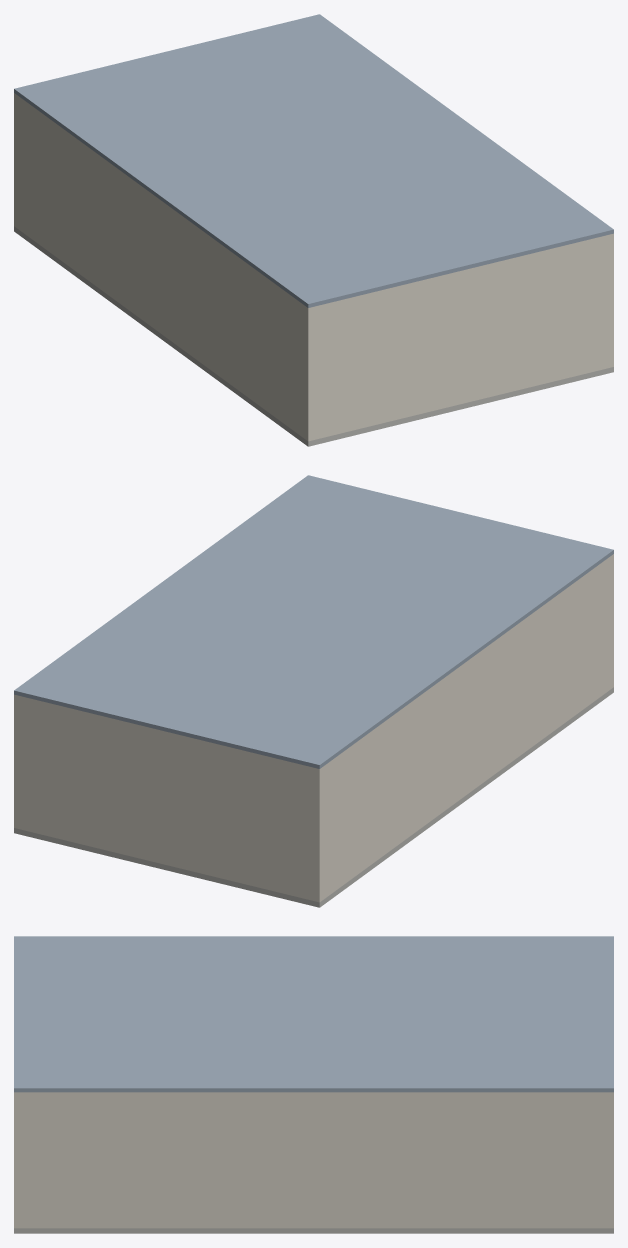
Rendered from shed.glb.
3 renders of one model, top to bottom at view 1: azimuth 30°, elevation 25°; view 2: azimuth 150°, elevation 25°; view 3: azimuth 270°, elevation 25°, orthographic.
Visible parts, largest first — view 1: 395m2lJzD1rPZkJPeEQciH, 2okLePhI14pBteZlYUepS3, 3SjGXv8sb2K9dxnB7Icxi7, 33gJnOJXjAq8YxhtEaa$Ip; view 2: 395m2lJzD1rPZkJPeEQciH, 1bZ27eNyv0H8KBtl3yb0rv, 3SjGXv8sb2K9dxnB7Icxi7, 33gJnOJXjAq8YxhtEaa$Ip, 1PQPoE94DEAP5FcIYcAazY; view 3: 395m2lJzD1rPZkJPeEQciH, 1PQPoE94DEAP5FcIYcAazY, 33gJnOJXjAq8YxhtEaa$Ip, 2okLePhI14pBteZlYUepS3.
Boxes of the visible parts, box(x1,y1,x2,y2) form: 395m2lJzD1rPZkJPeEQciH: box(14, 14, 613, 307); 2okLePhI14pBteZlYUepS3: box(306, 234, 613, 440); 3SjGXv8sb2K9dxnB7Icxi7: box(14, 93, 313, 441); 33gJnOJXjAq8YxhtEaa$Ip: box(14, 226, 613, 446); 395m2lJzD1rPZkJPeEQciH: box(14, 475, 613, 768); 1bZ27eNyv0H8KBtl3yb0rv: box(14, 695, 322, 901); 3SjGXv8sb2K9dxnB7Icxi7: box(314, 554, 613, 902); 33gJnOJXjAq8YxhtEaa$Ip: box(14, 687, 613, 907); 1PQPoE94DEAP5FcIYcAazY: box(14, 694, 18, 828); 395m2lJzD1rPZkJPeEQciH: box(14, 936, 613, 1092); 1PQPoE94DEAP5FcIYcAazY: box(14, 1092, 613, 1228); 33gJnOJXjAq8YxhtEaa$Ip: box(14, 1228, 613, 1233); 2okLePhI14pBteZlYUepS3: box(14, 1092, 19, 1228).
Bounding box in the file's own units: 12 × 5.35 × 20.
